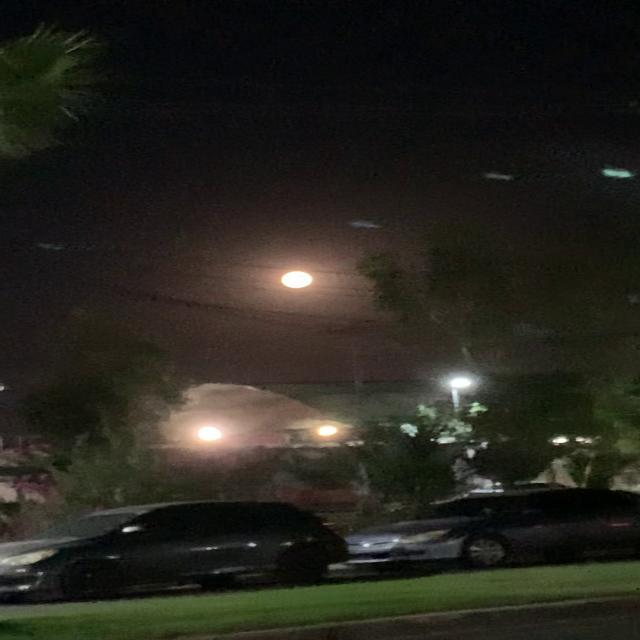moon: (269, 263, 324, 296)
